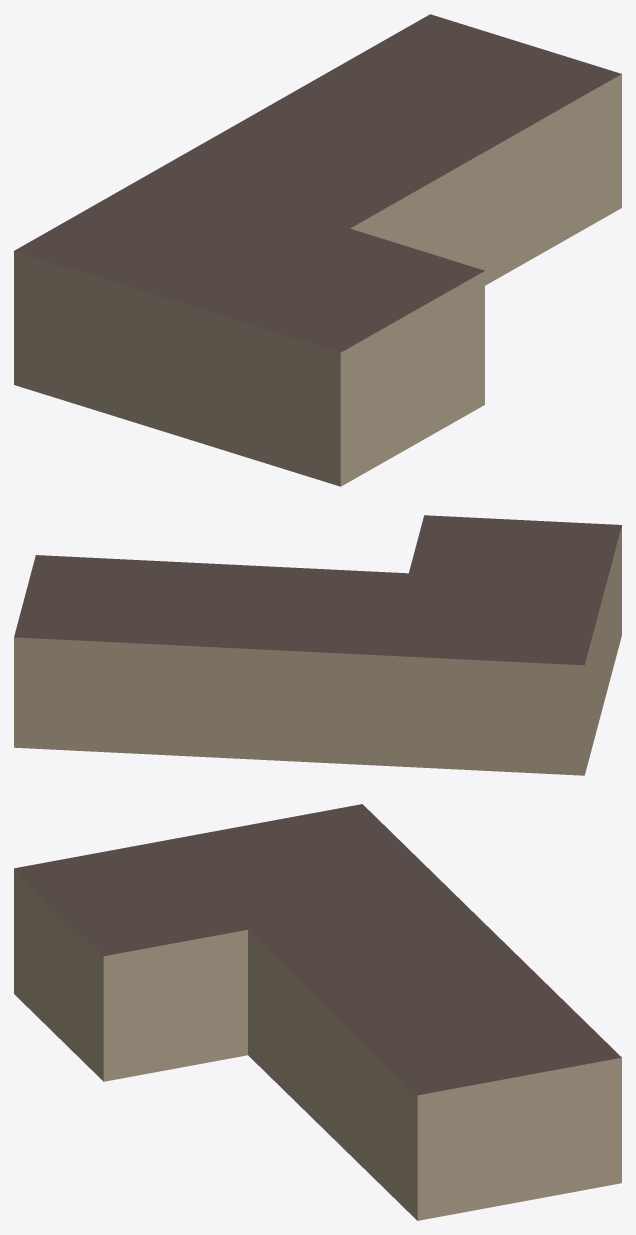
The picture shows the model from 3 angles, top to bottom: view 1: azimuth 30°, elevation 25°; view 2: azimuth 150°, elevation 25°; view 3: azimuth 270°, elevation 25°; orthographic projection. The views are drawn at different scales.
Parts seen in each view (by area): view 1: HP-w372180513; view 2: HP-w372180513; view 3: HP-w372180513.
Boxes of the visible parts, bbox=[...] form: HP-w372180513: bbox=[14, 14, 621, 486]; HP-w372180513: bbox=[14, 515, 621, 775]; HP-w372180513: bbox=[14, 804, 621, 1220].
Bounding box in the file's own units: 44.78 × 9 × 39.49.
